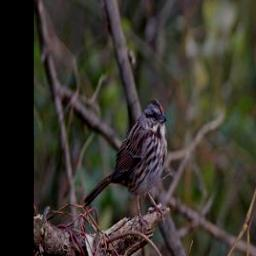Sparrow: (82, 98, 168, 228)
